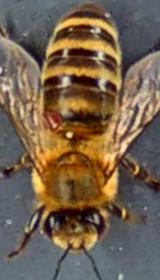varroa_mite: (34, 104, 69, 131)
